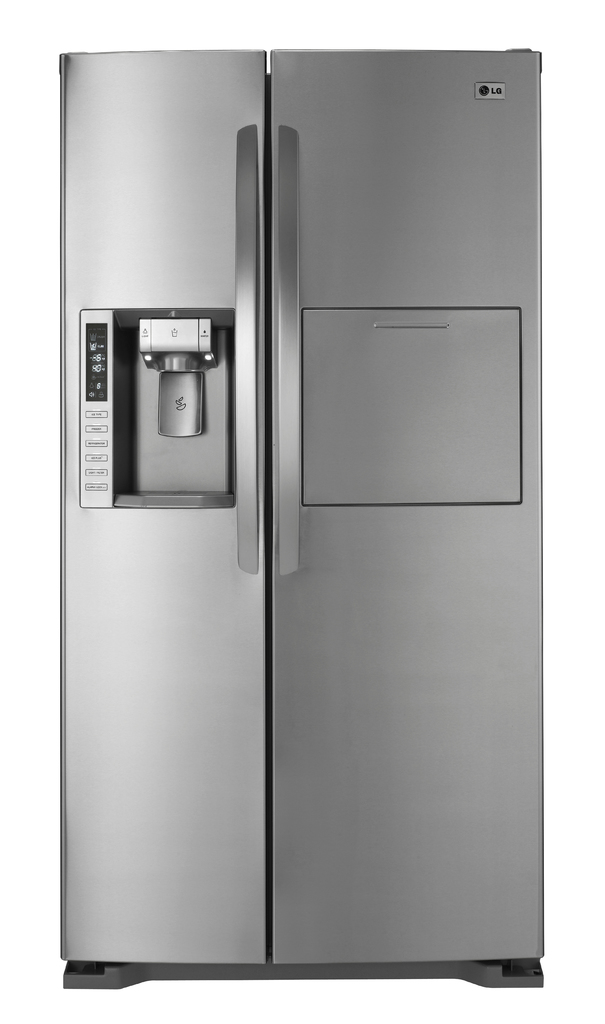handle: (273, 121, 304, 583), (232, 125, 262, 580)
refrigerator door: (271, 50, 543, 954), (65, 58, 264, 954)
